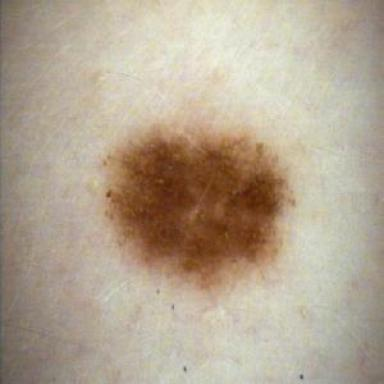Melanoma: (105, 126, 294, 288)
